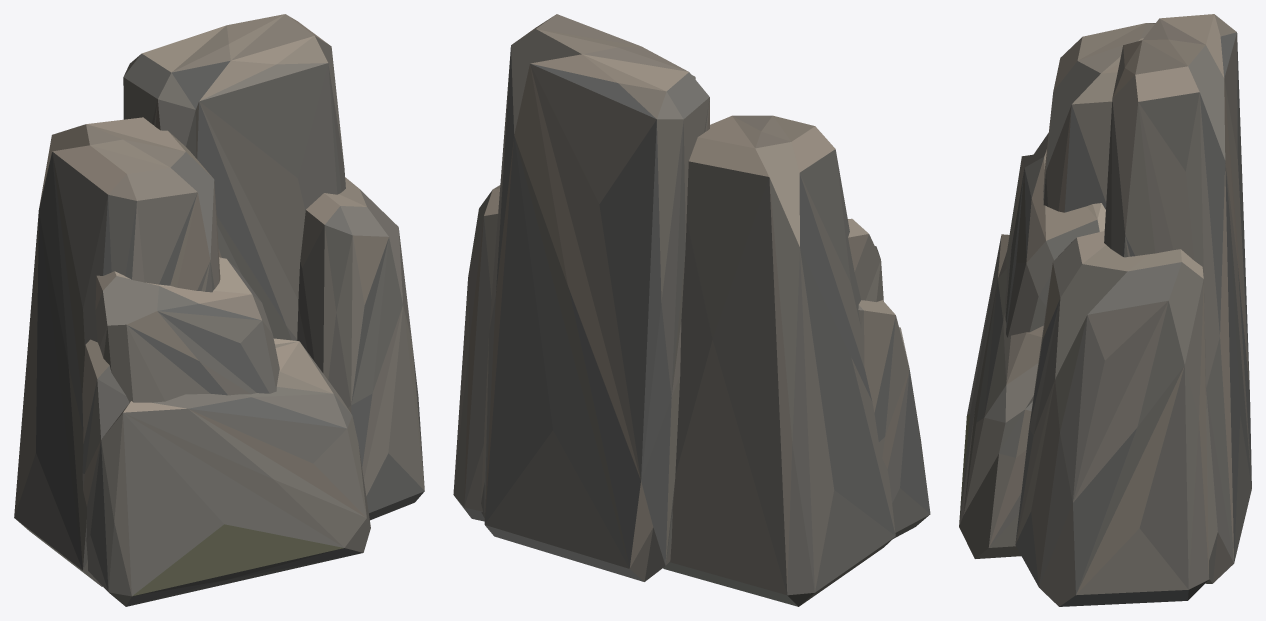
Rendered from verdant-cliff-buttress.glb.
The picture shows the model from 3 angles, left to right: view 1: azimuth 30°, elevation 25°; view 2: azimuth 150°, elevation 25°; view 3: azimuth 270°, elevation 25°; orthographic projection. The views are drawn at different scales.
Visible parts, largest first — view 1: verdant-cliff-buttress; view 2: verdant-cliff-buttress; view 3: verdant-cliff-buttress.
Boxes of the visible parts, x1,y1,x2,y2 form: verdant-cliff-buttress: (14,14,424,606); verdant-cliff-buttress: (453,14,930,606); verdant-cliff-buttress: (959,14,1251,606).
Size of the model in its own units: 3.07 by 3.83 by 2.02.
Materials: 1 (1 with a texture image).
